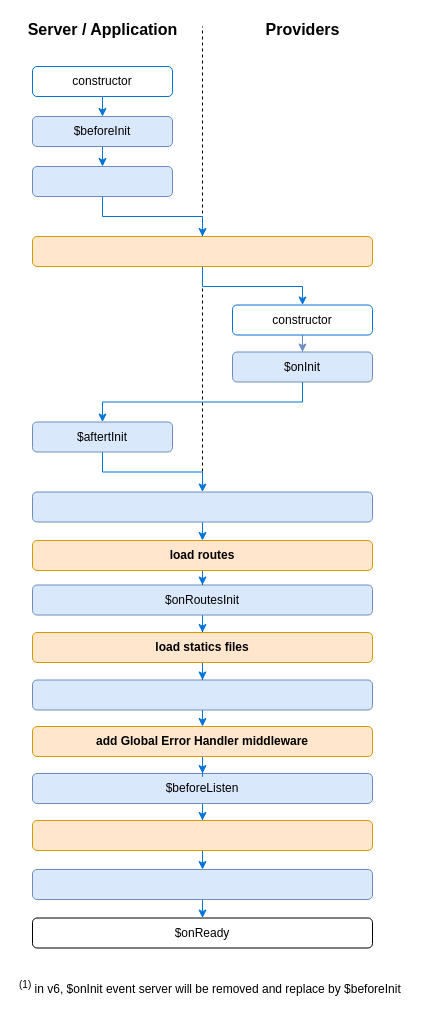
This 434x1028 diagram has some shape labels left out. Each missing label, with the centre of its shape:
"$afterListen" goes at point (202, 884).
"$afterRoutesInit" goes at point (202, 694).
"$beforeRoutesInit" goes at point (202, 506).
"$onInit (1)" goes at point (102, 181).
"listen server" goes at point (202, 835).
"load injector, build provider and controllers" goes at point (202, 251).
